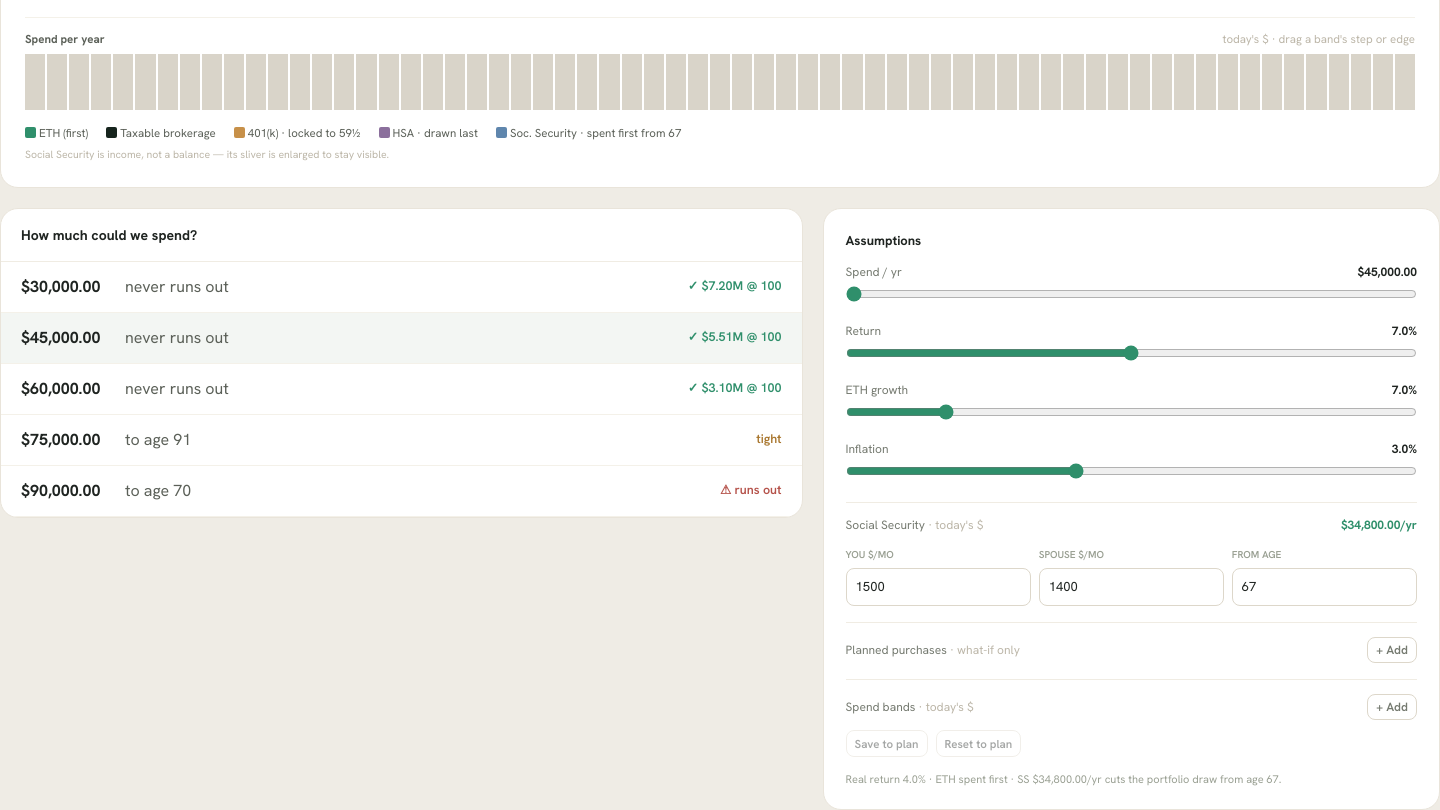
Test: planned purchases section › removes a purchase and refetches without it
(page scrolled)
Click the button with test id "forecast-purchase-add".
click(1392, 650)  # box x1=1367 y1=637 x2=1417 y2=663
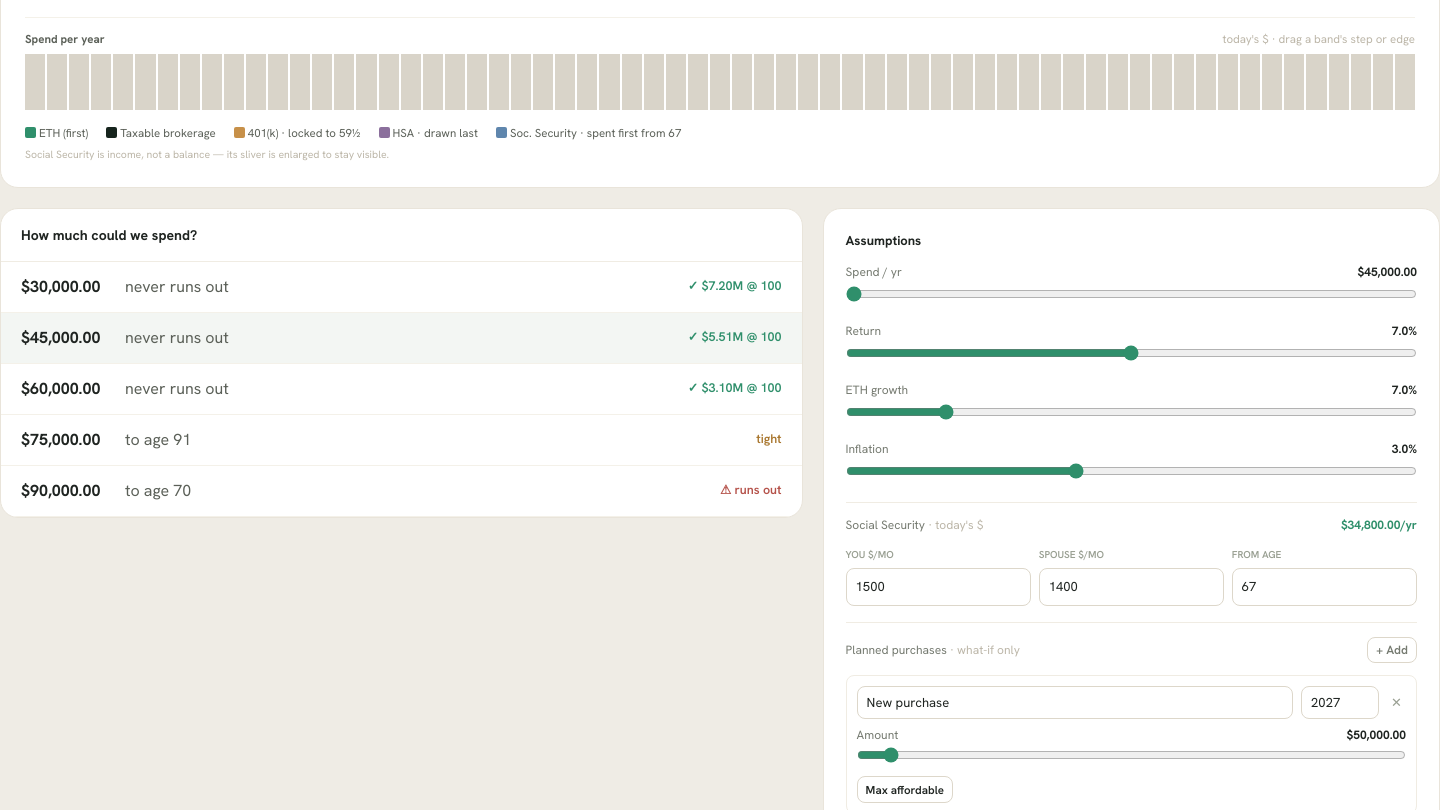
Click the button with test id "forecast-purchase-remove-0".
click(1397, 702)  # box x1=1387 y1=693 x2=1406 y2=712
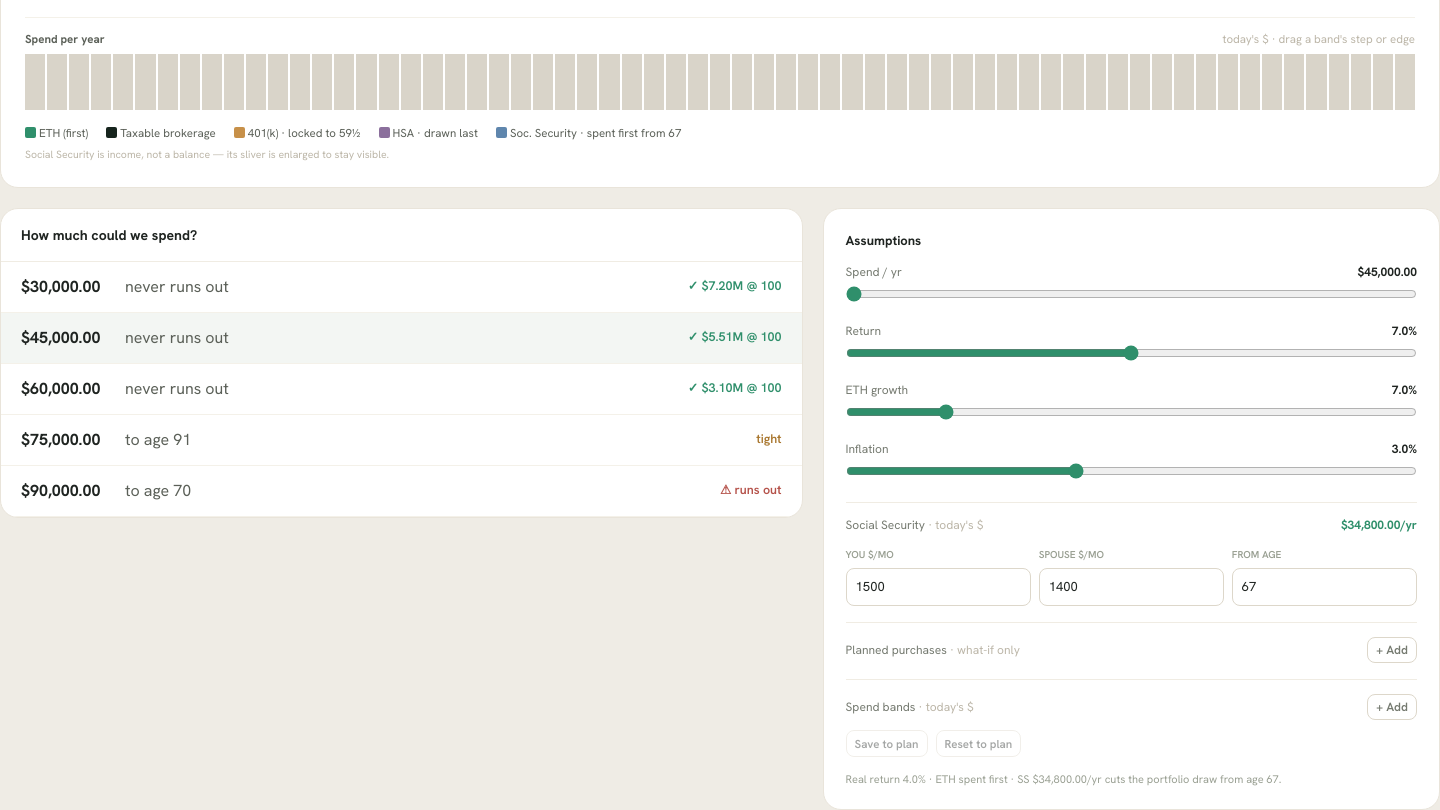
Now the field with test id "forecast-purchase-name-0" is gone
